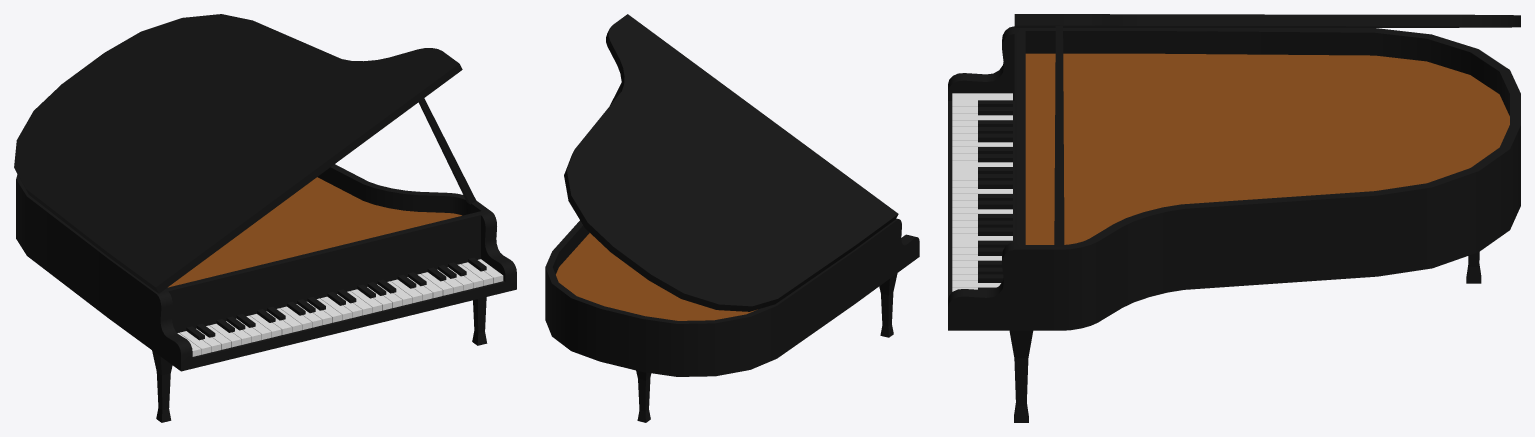
File: Piano.glb
3 renders of one model, left to right at view 1: azimuth 30°, elevation 25°; view 2: azimuth 150°, elevation 25°; view 3: azimuth 270°, elevation 25°, orthographic. The views are drawn at different scales.
Visible parts, largest first — view 1: Piano.wing, Piano.body, Piano.stick, Piano.leg.002, Piano.leg.001; view 2: Piano.wing, Piano.body, Piano.leg.002, Piano.leg.003; view 3: Piano.body, Piano.wing, Piano.stick, Piano.leg.001.
Boxes of the visible parts, x1,y1,x2,y2 form: Piano.wing: (14,14,462,293); Piano.body: (16,164,516,371); Piano.stick: (418,98,476,204); Piano.leg.002: (152,350,172,422); Piano.leg.001: (472,297,487,345); Piano.wing: (564,14,898,311); Piano.body: (545,218,919,376); Piano.leg.002: (879,273,897,337); Piano.leg.003: (636,370,651,422); Piano.body: (948,26,1520,330); Piano.wing: (1014,14,1520,27); Piano.stick: (1054,26,1064,246); Piano.leg.001: (1009,330,1033,422).
Size of the model in its own units: 5.01 by 4.08 by 5.42.
